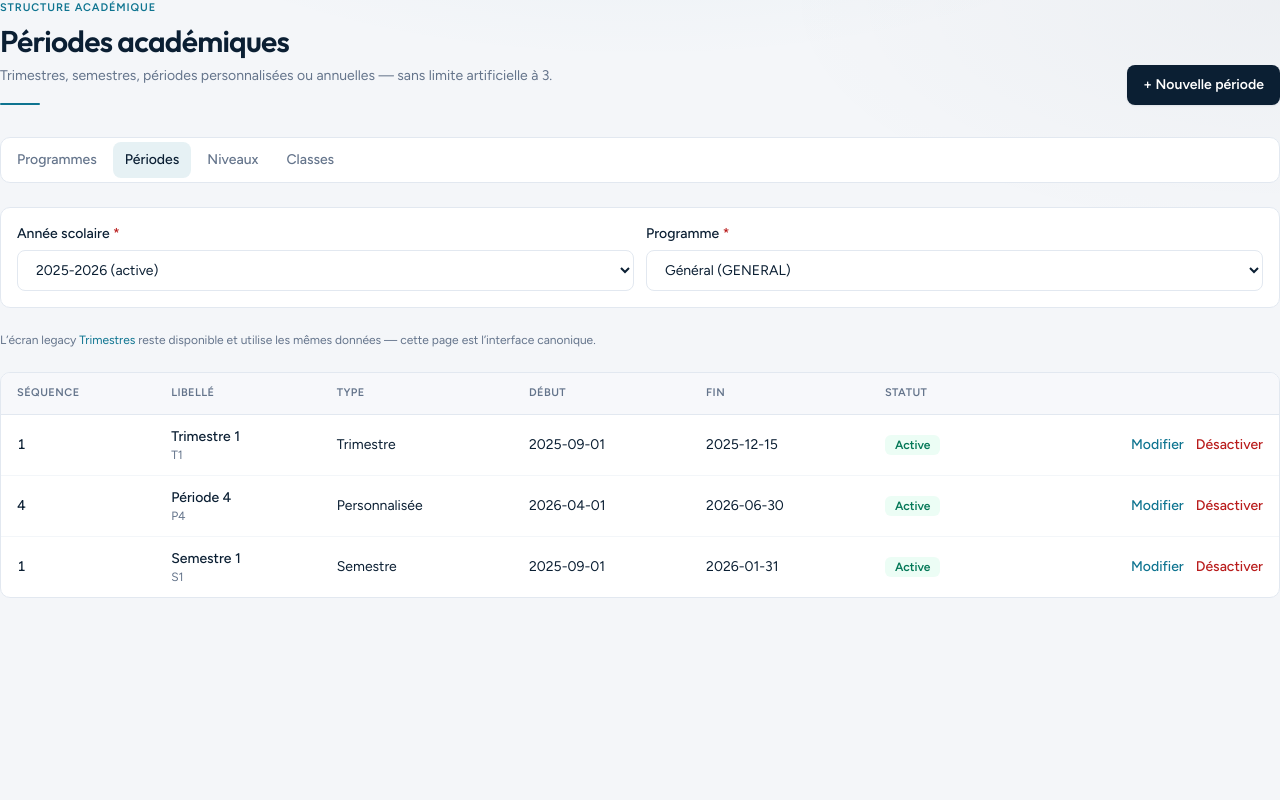
Scenario: Périodes page › bloque dates invalides côté UX
Expected: the text "Trimestre 1" is shown, [171, 428, 240, 445]
Click the button "+ Nouvelle période".
click(1204, 85)  # box [1127, 65, 1279, 105]
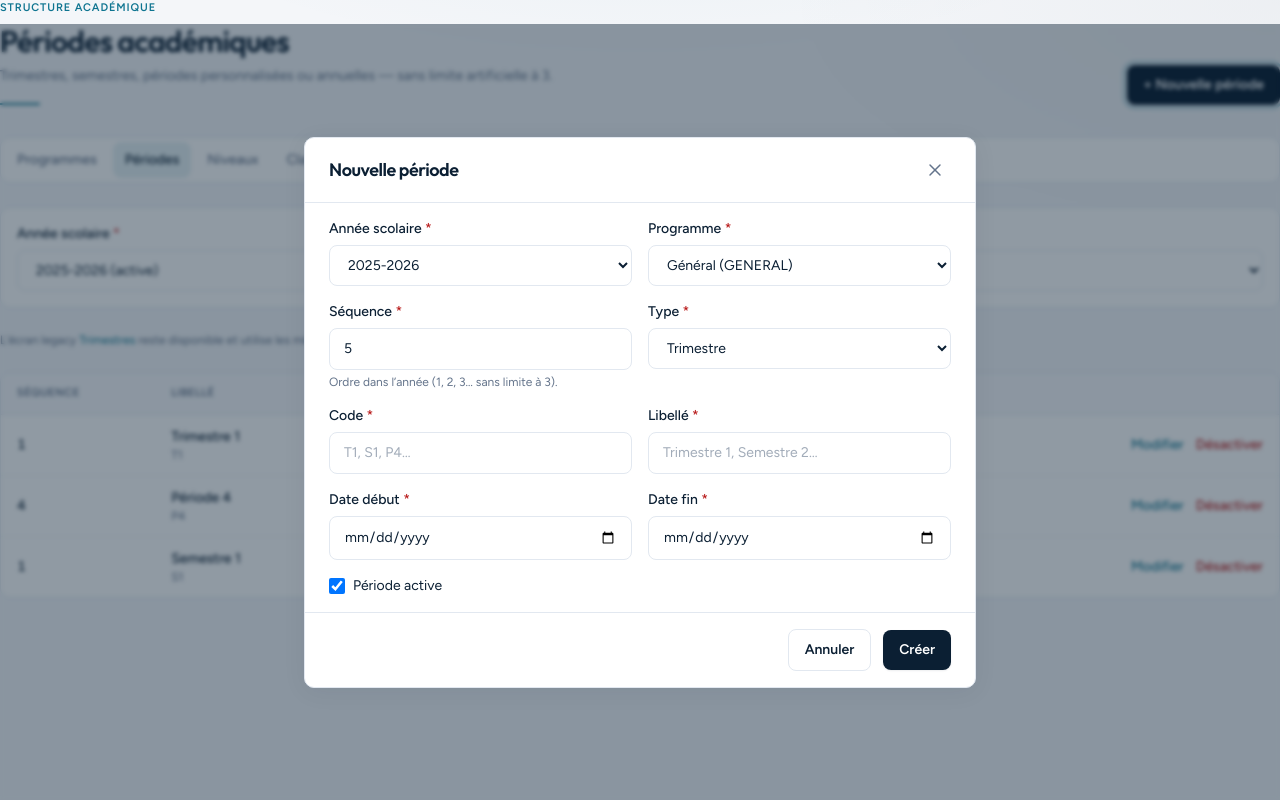
Type "T2" into the field labelled "Code *".
click(480, 452); type("T2")  # box [329, 432, 632, 474]
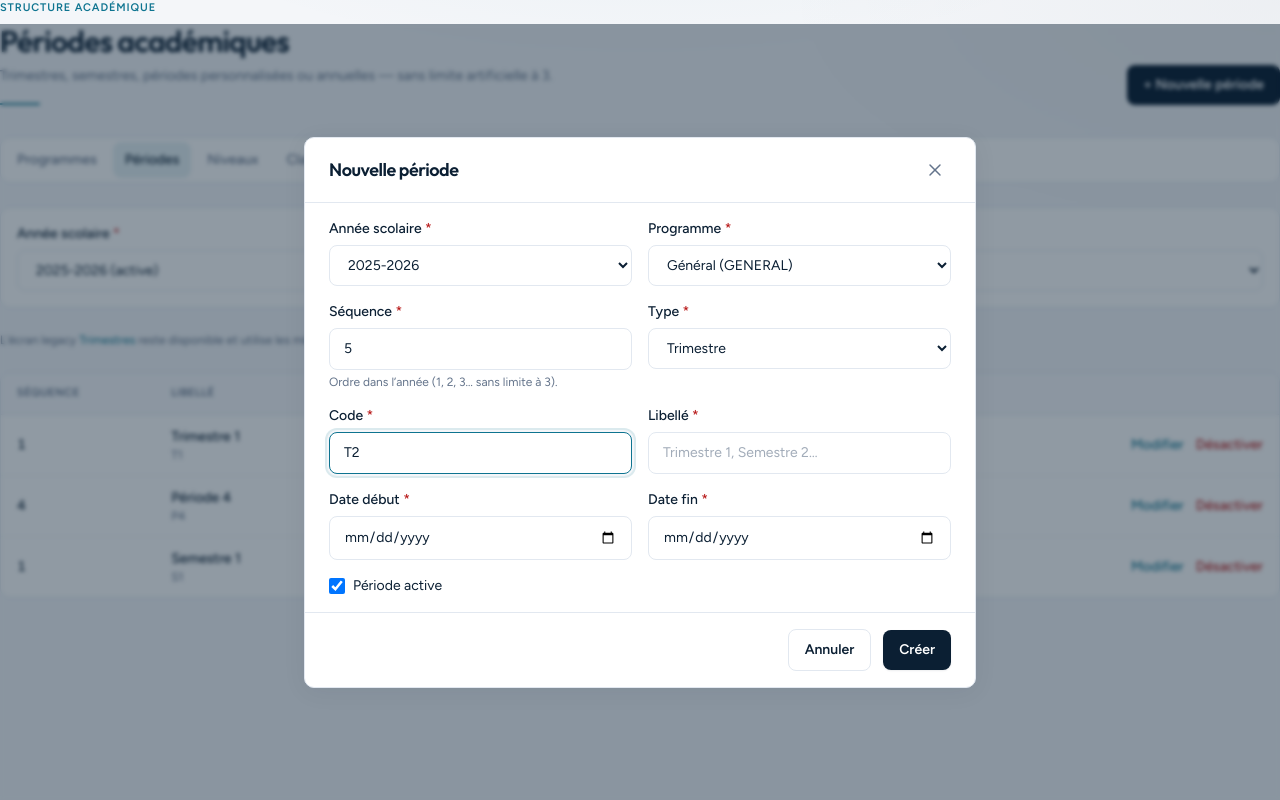
Type "Trimestre 2" into the field labelled "Libellé *".
click(800, 452); type("Trimestre 2")  # box [648, 432, 951, 474]
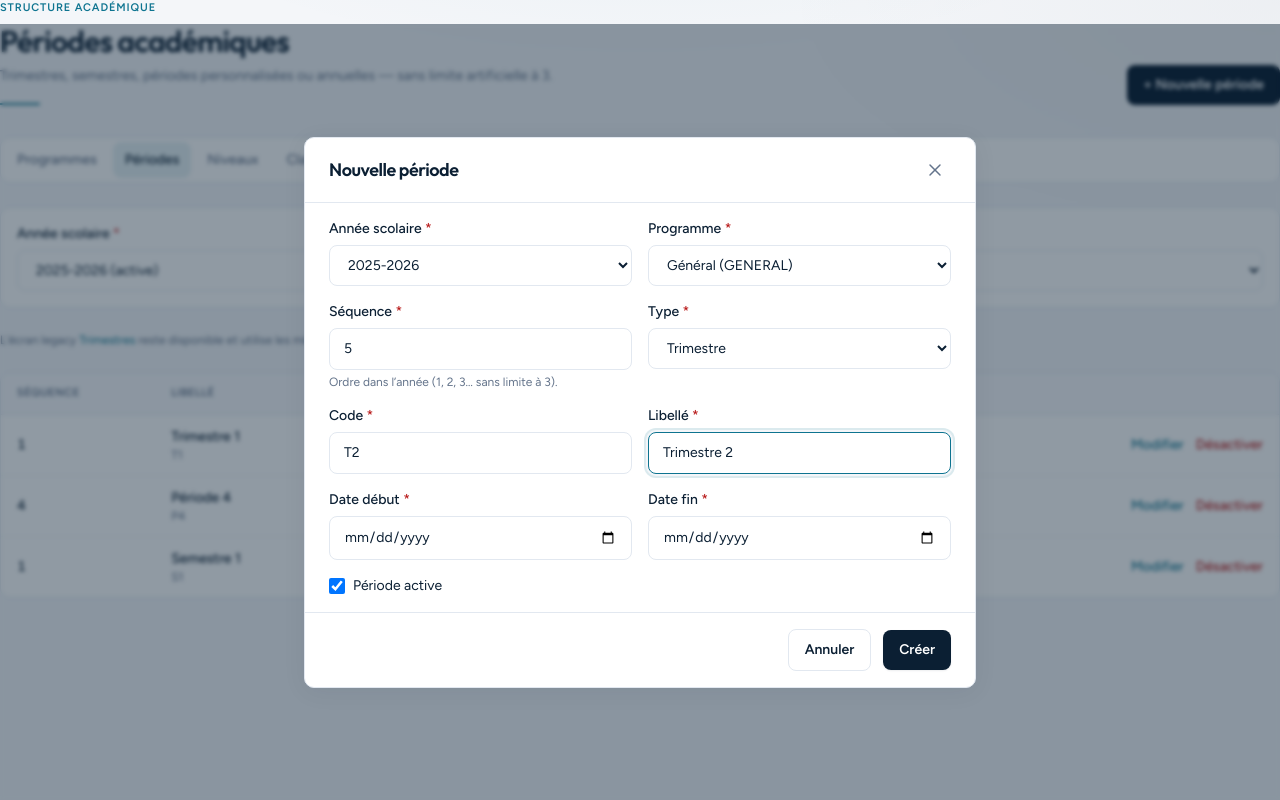
Type "2026-06-01" into the date field labelled "Date début *".
click(480, 538); type("2026-06-01")  # box [329, 516, 632, 560]
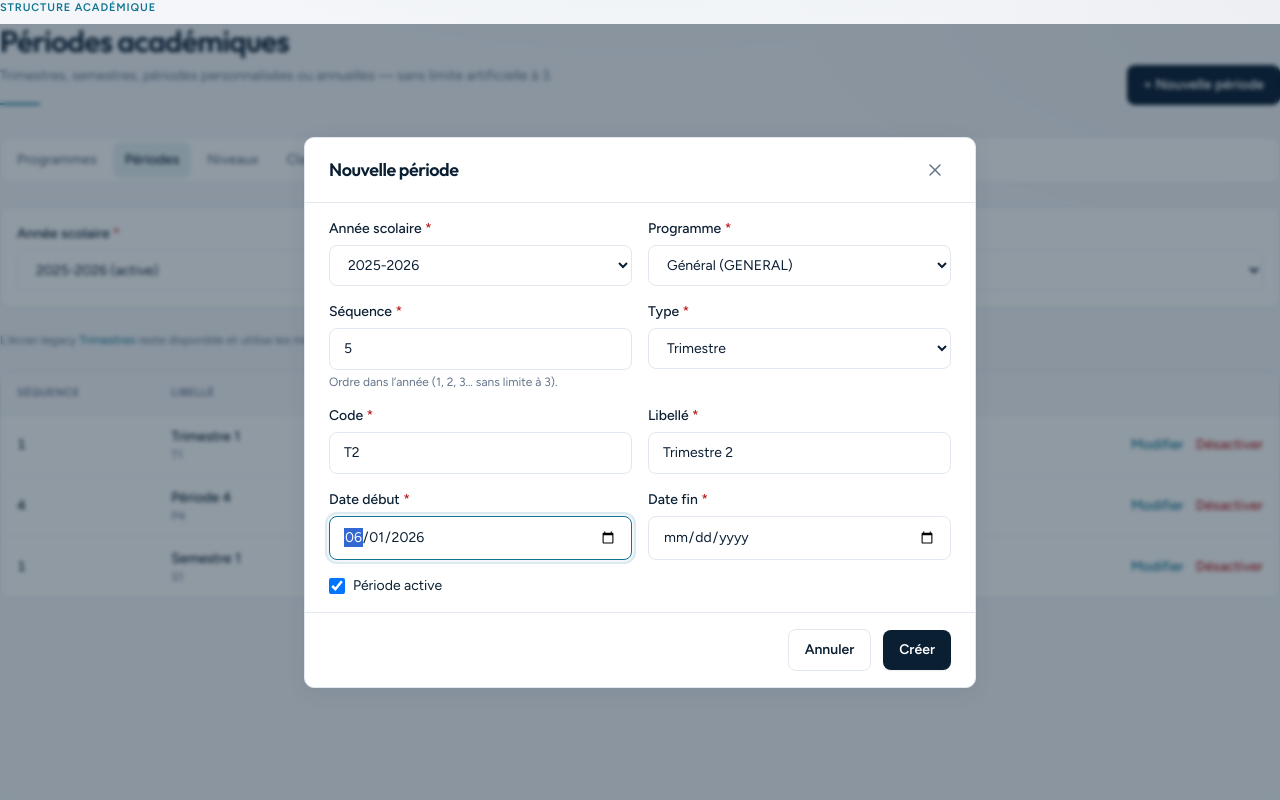
Type "2026-01-01" into the date field labelled "Date fin *".
click(800, 538); type("2026-01-01")  # box [648, 516, 951, 560]
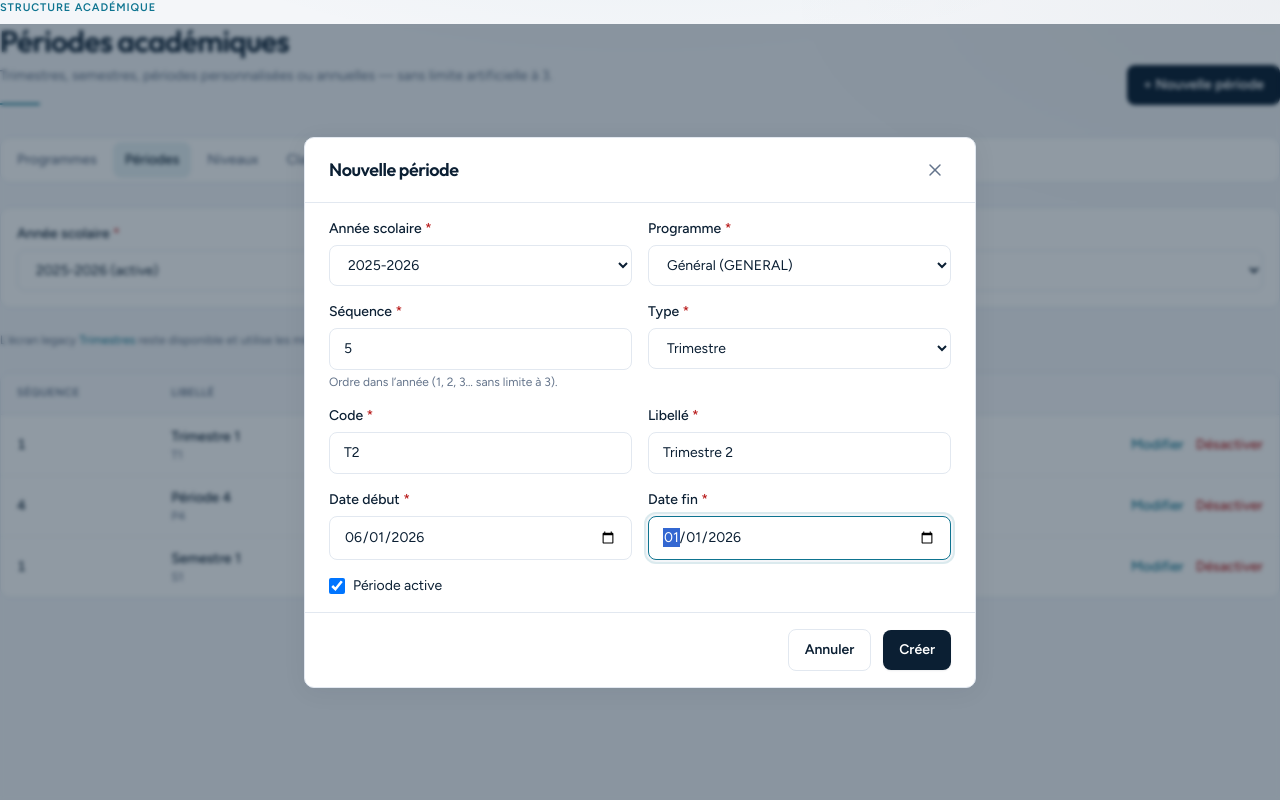
Click the button "Créer".
click(917, 650)  # box [883, 630, 951, 670]
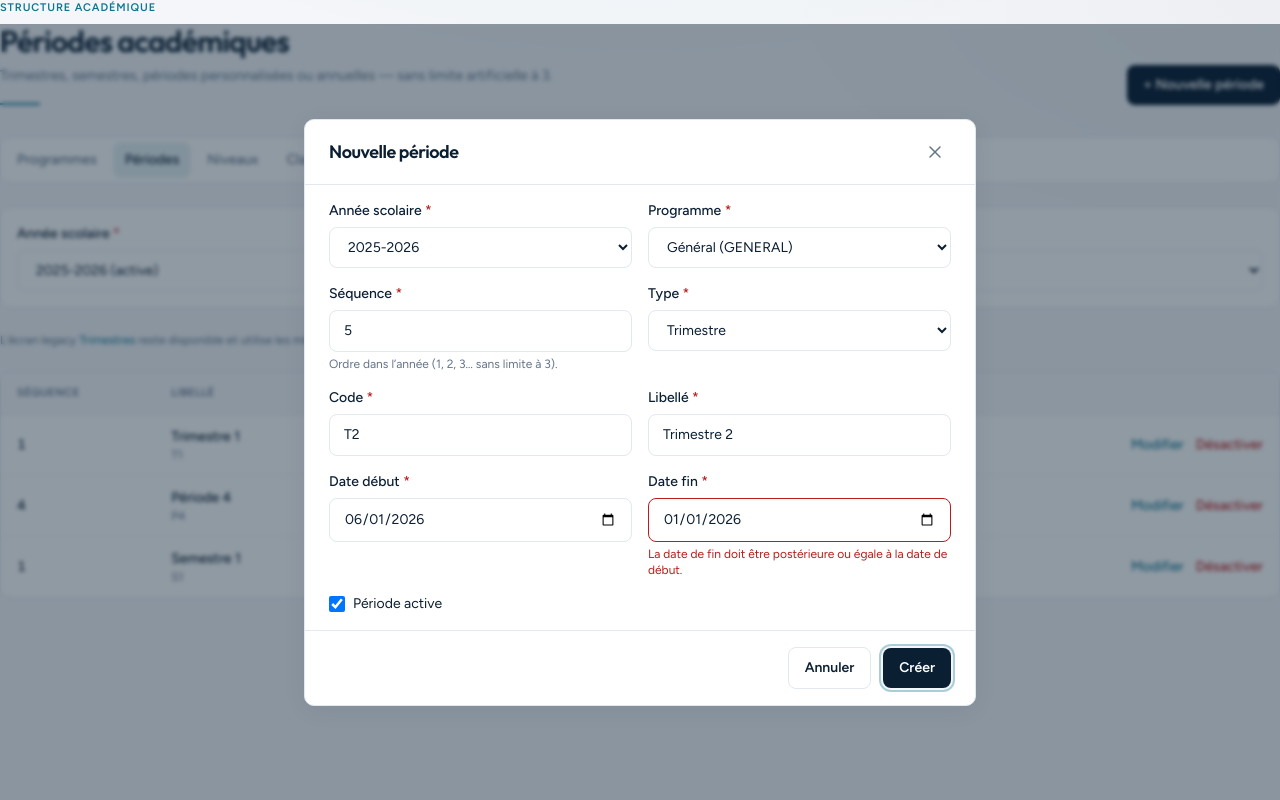
Result: the text "date de fin doit être postérieure" is shown at [648, 546, 947, 576]
